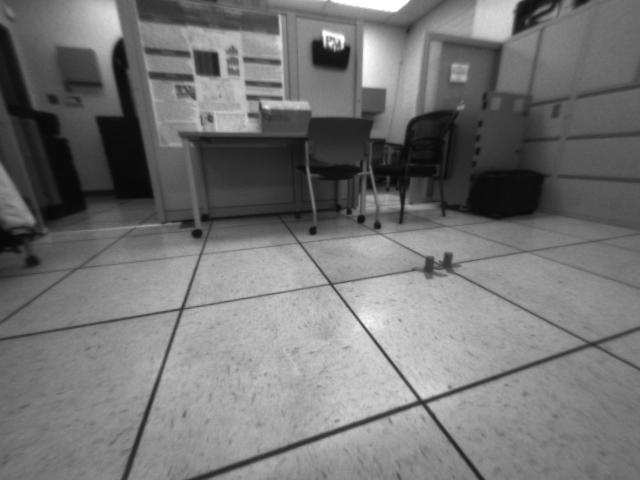X: (410, 254, 448, 282), (431, 250, 462, 275)
